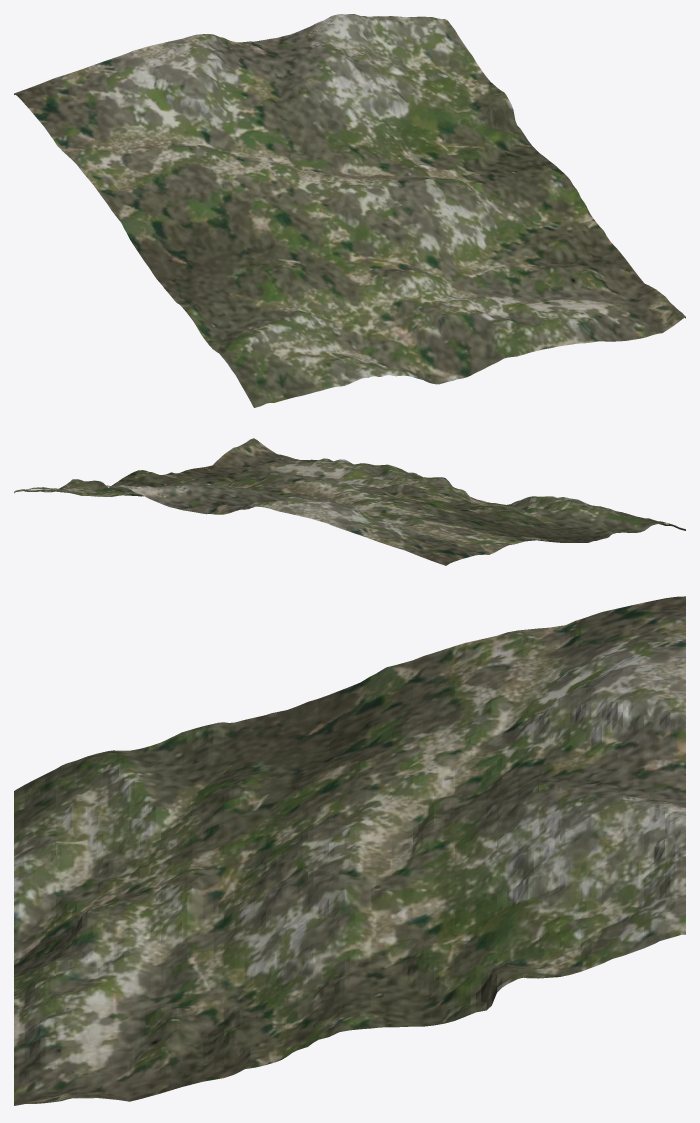
3 views of the same model, one above another, from view 1: azimuth 30°, elevation 25°; view 2: azimuth 150°, elevation 25°; view 3: azimuth 270°, elevation 25° (orthographic). The views are drawn at different scales.
Bounding box in the file's own units: 250 × 100 × 241.
1 material, 1 textured.
